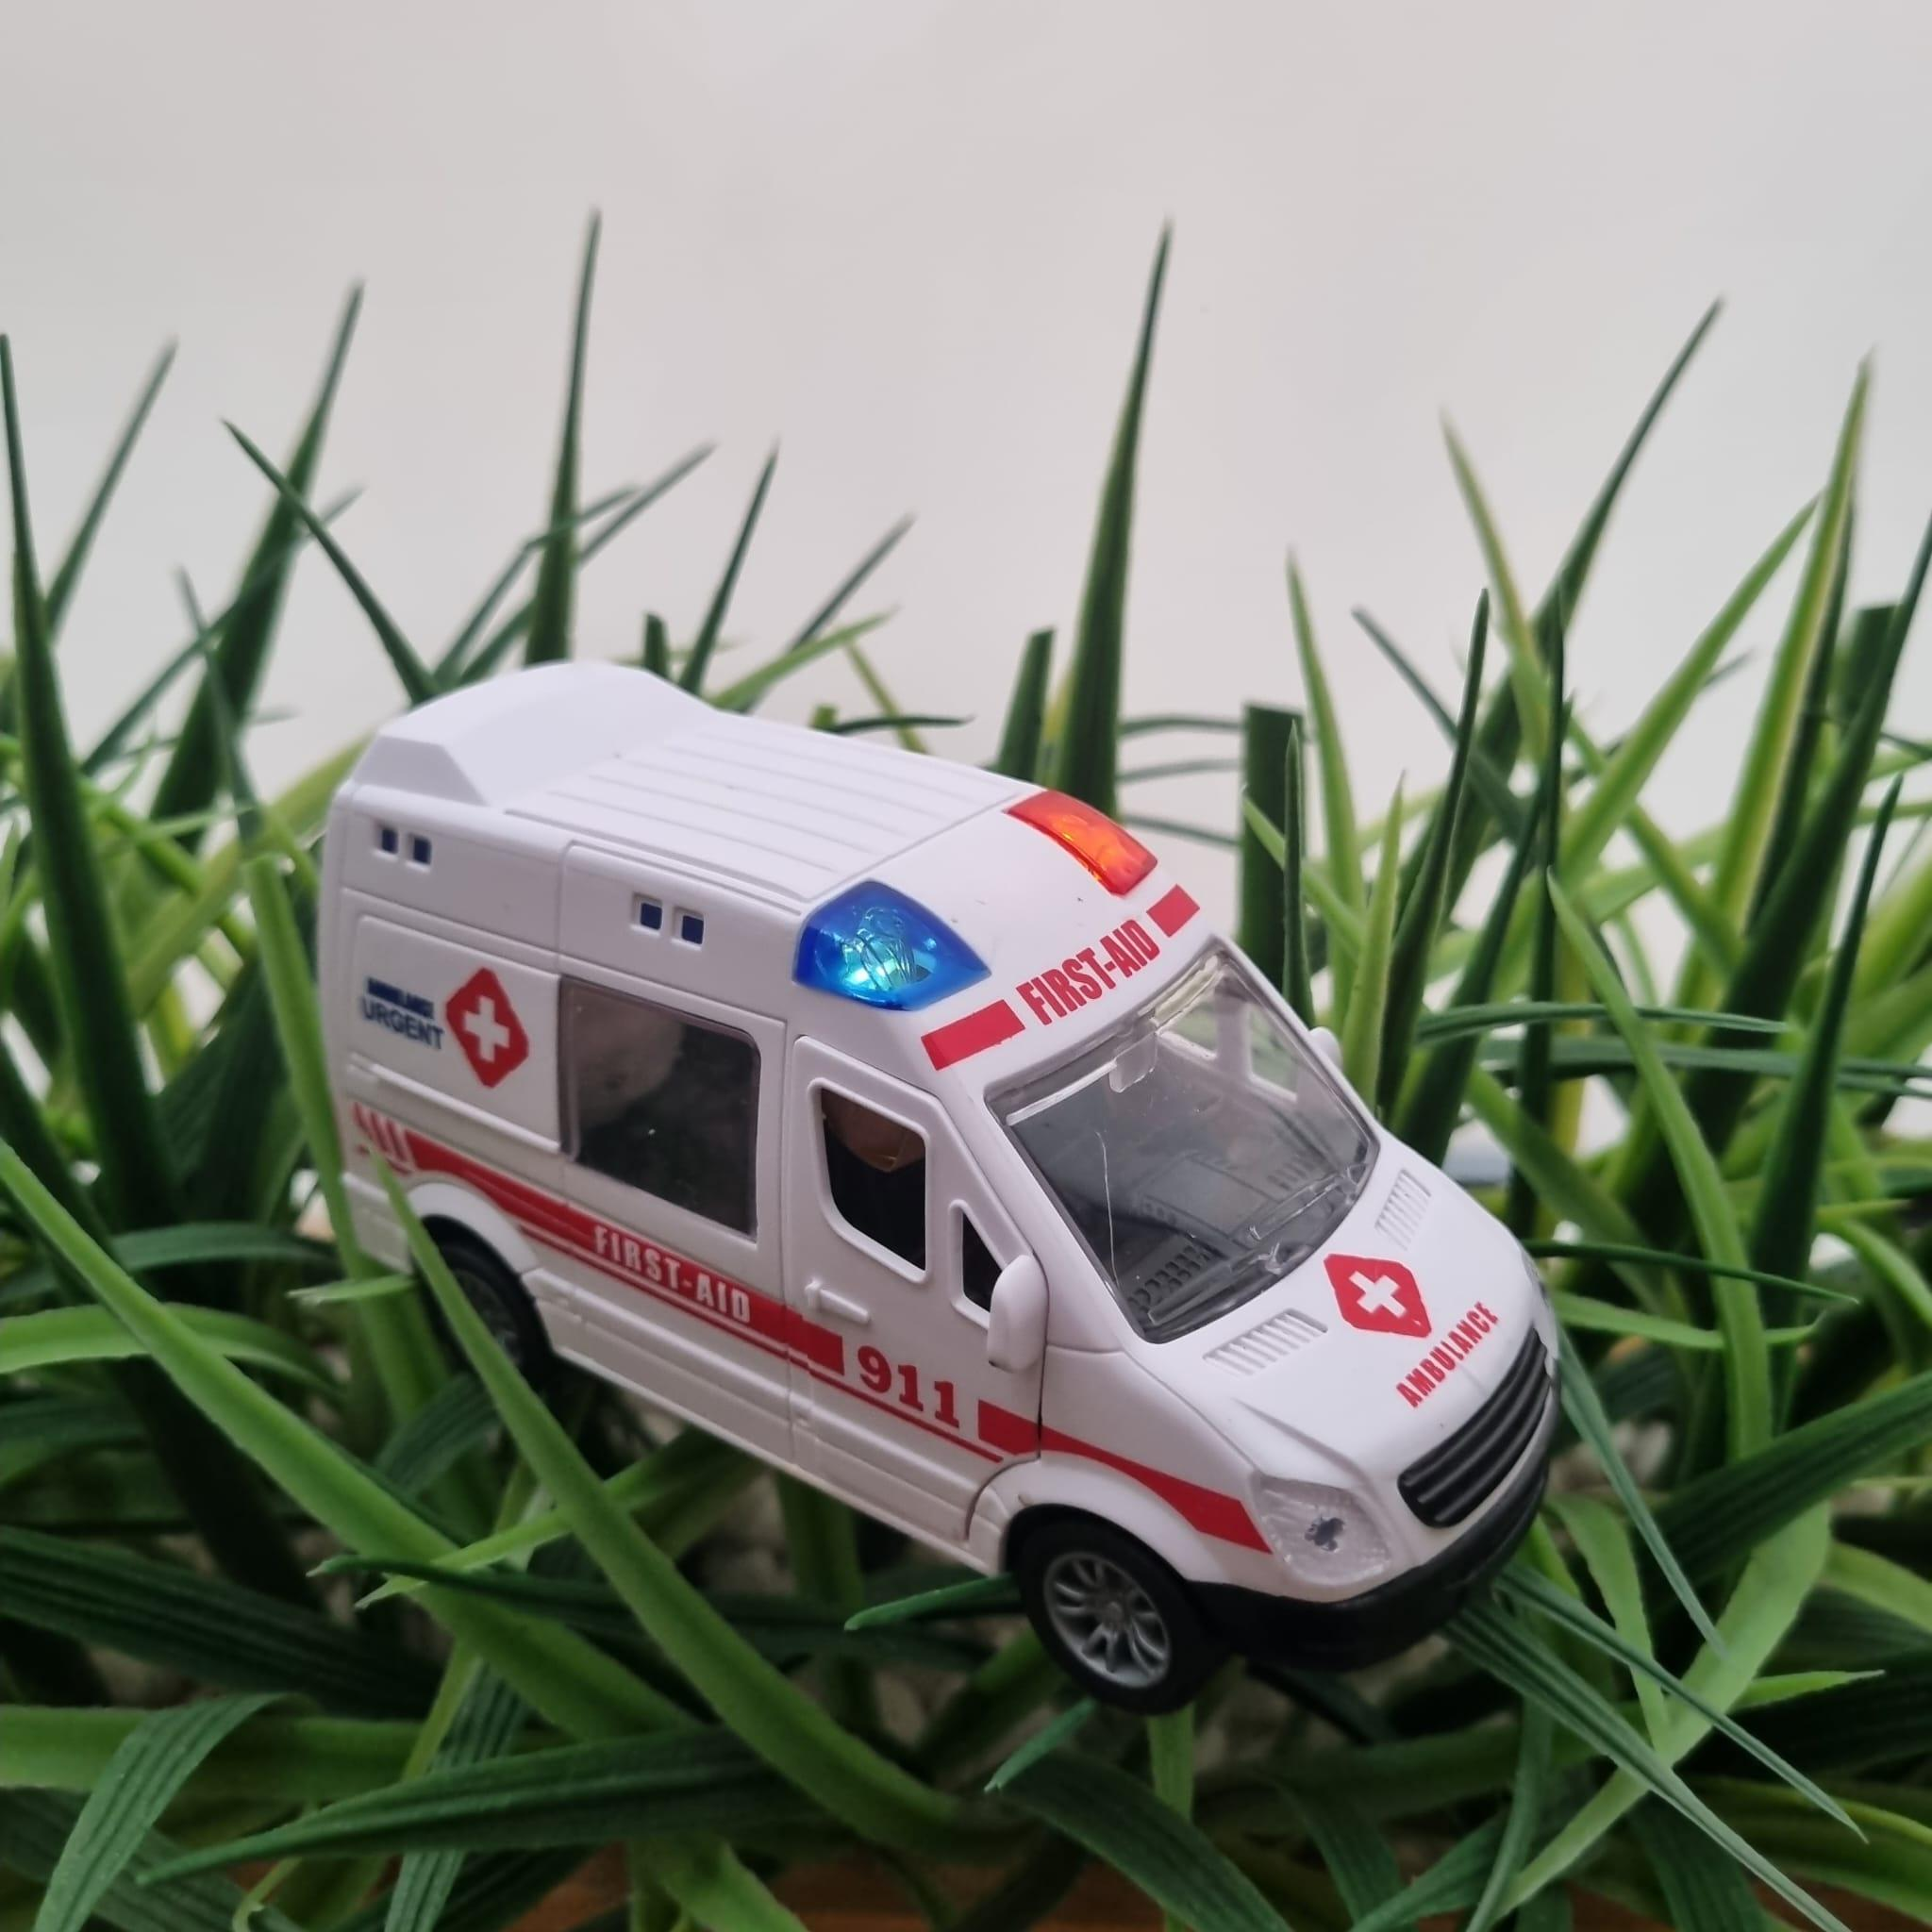ambulance_on: (311, 651, 1562, 1714)
